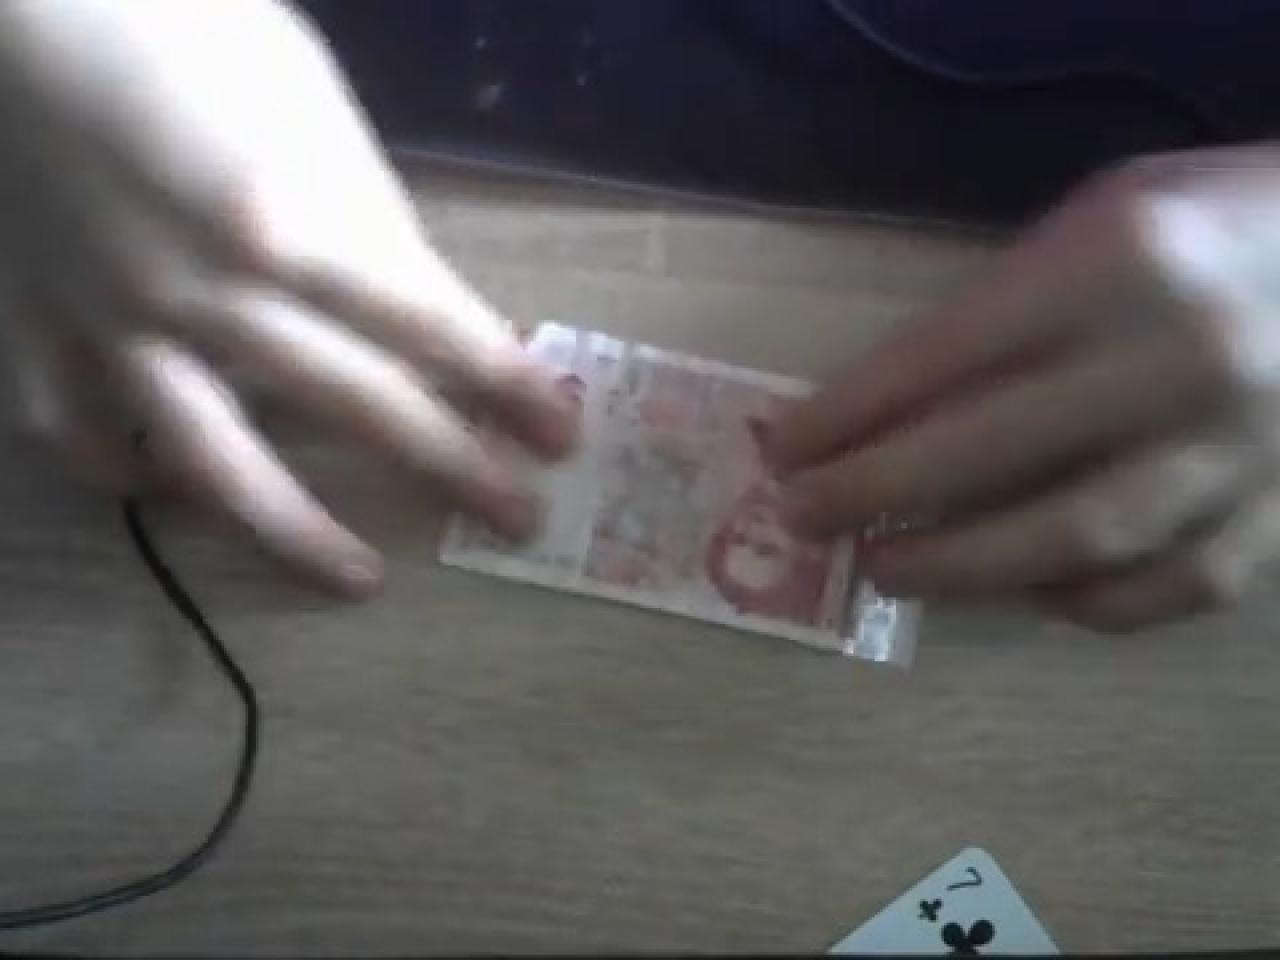5leva: (434, 323, 922, 667)
